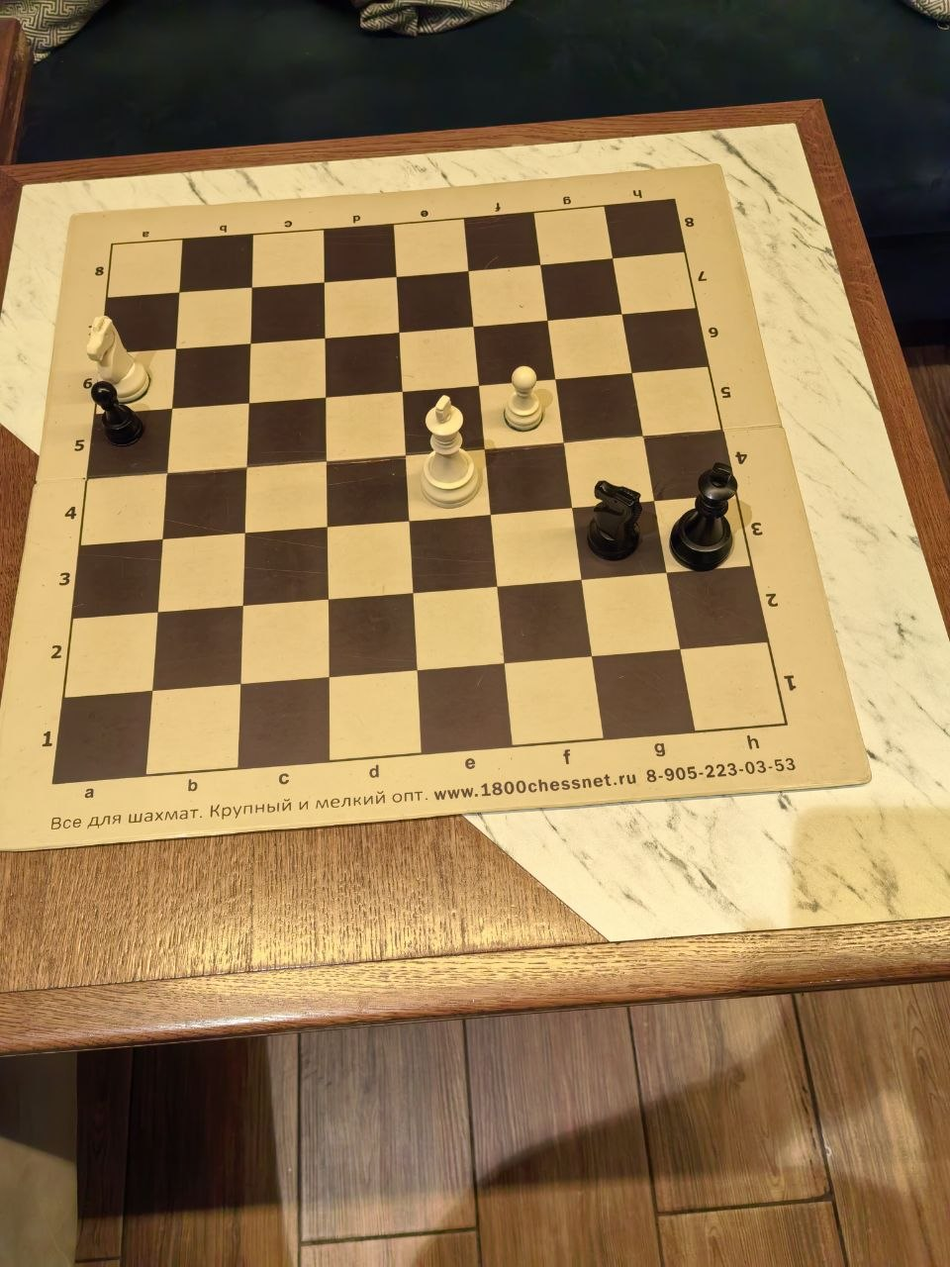black-bishop: (475, 634, 594, 792)
black-queen: (0, 317, 119, 475)
black-rook: (594, 475, 712, 634)
white-bishop: (831, 792, 950, 950)
white-queen: (712, 792, 831, 950)
white-rook: (0, 475, 119, 634)
